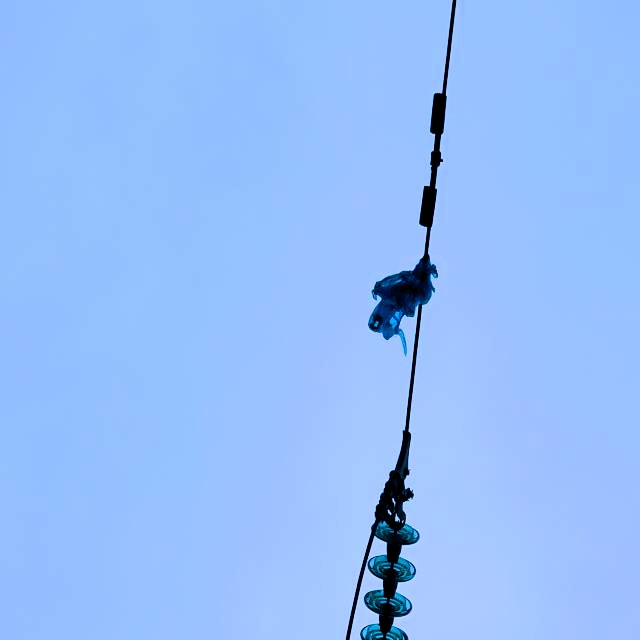wire foreign body: (352, 242, 464, 348)
